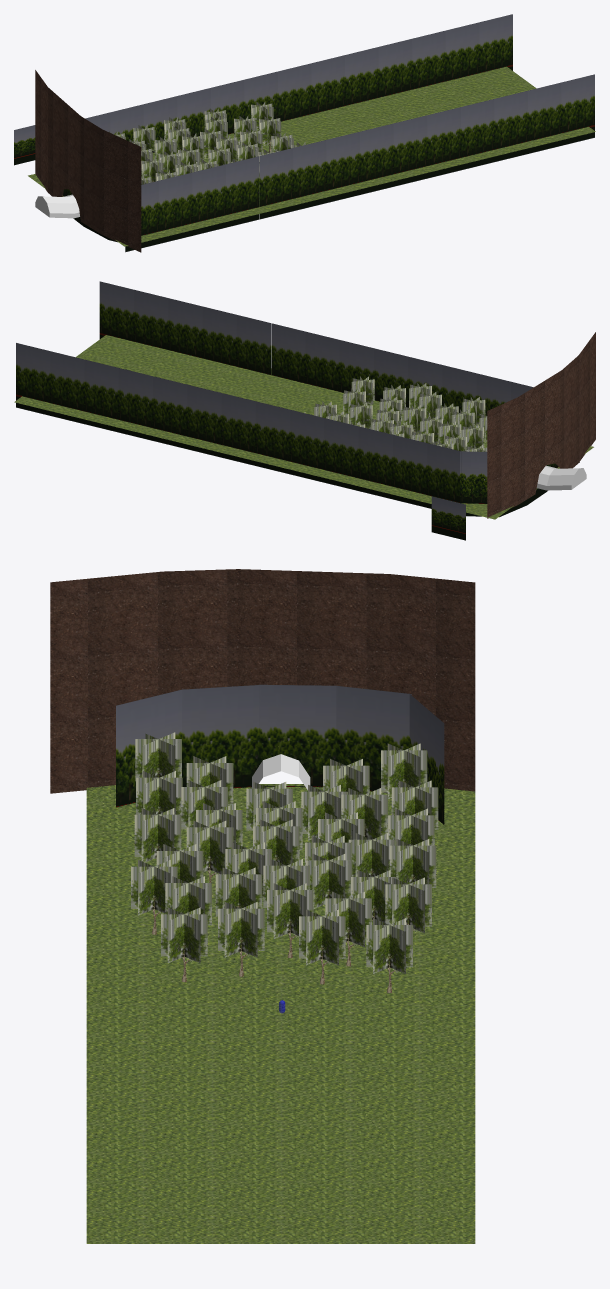
File: TST_Forest_V2.glb
3 renders of one model, top to bottom at view 1: azimuth 30°, elevation 25°; view 2: azimuth 150°, elevation 25°; view 3: azimuth 270°, elevation 25°, orthographic. The views are drawn at different scales.
Visible parts, largest first — view 1: WallR, WallL, Cliff wall, Ground, Tree.034, Tunnel, Wall1; view 2: WallL, WallR, Ground, Cliff wall, Tree.034, WallC, Wall1, Tunnel; view 3: Ground, Cliff wall, Tree.034, WallC, Tree, Tunnel.
Boxes of the visible parts, x1=… form: WallR: x1=125, y1=74, x2=594, y2=252; WallL: x1=85, y1=14, x2=512, y2=152; Cliff wall: x1=35, y1=70, x2=141, y2=252; Ground: x1=28, y1=66, x2=595, y2=246; Tree.034: x1=109, y1=101, x2=305, y2=186; Tunnel: x1=35, y1=194, x2=79, y2=218; Wall1: x1=14, y1=125, x2=35, y2=165; WallL: x1=16, y1=343, x2=461, y2=508; WallR: x1=99, y1=281, x2=579, y2=462; Ground: x1=14, y1=335, x2=593, y2=519; Cliff wall: x1=487, y1=332, x2=595, y2=518; Tree.034: x1=304, y1=376, x2=487, y2=451; WallC: x1=460, y1=451, x2=558, y2=517; Wall1: x1=431, y1=496, x2=465, y2=540; Tunnel: x1=536, y1=465, x2=586, y2=490; Ground: x1=86, y1=784, x2=475, y2=1243; Cliff wall: x1=50, y1=569, x2=475, y2=793; Tree.034: x1=131, y1=732, x2=438, y2=992; WallC: x1=116, y1=684, x2=444, y2=824; Tree: x1=381, y1=743, x2=427, y2=799; Tunnel: x1=252, y1=754, x2=310, y2=789.
Size of the model in its own units: 152 by 36.46 by 65.55.
6 materials, 5 textured.
